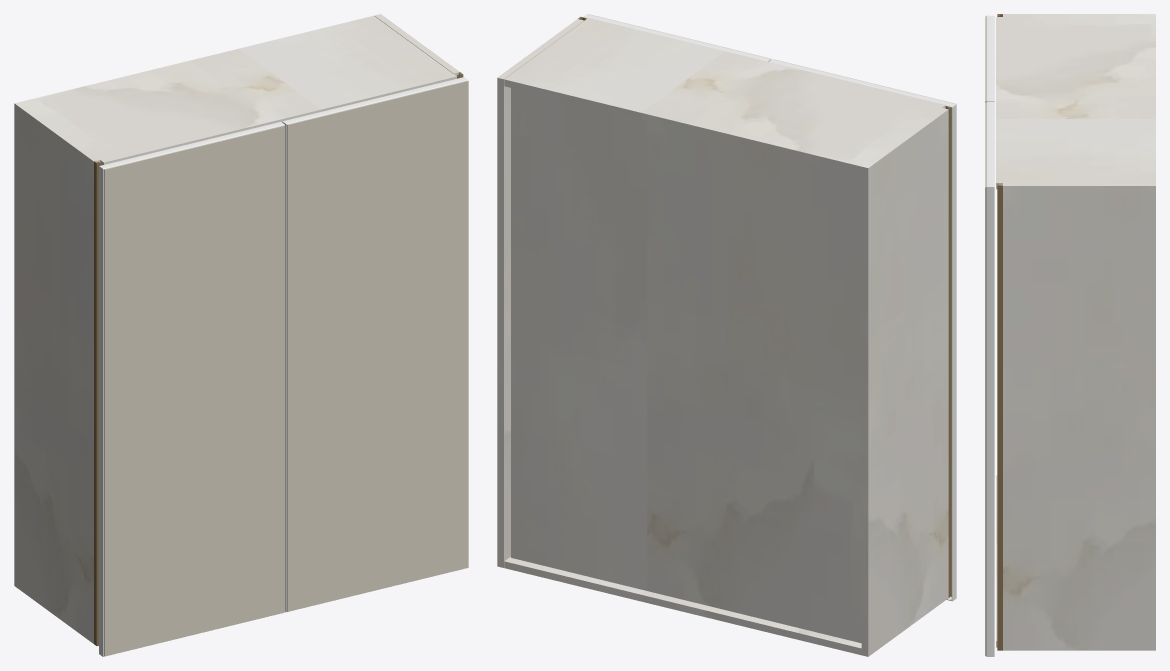
The picture shows the model from 3 angles, left to right: view 1: azimuth 30°, elevation 25°; view 2: azimuth 150°, elevation 25°; view 3: azimuth 270°, elevation 25°; orthographic projection. The views are drawn at different scales.
Size of what is drawn, in the model's own units: 0.85 by 1.09 by 0.3569.
7 materials, 2 textured.
